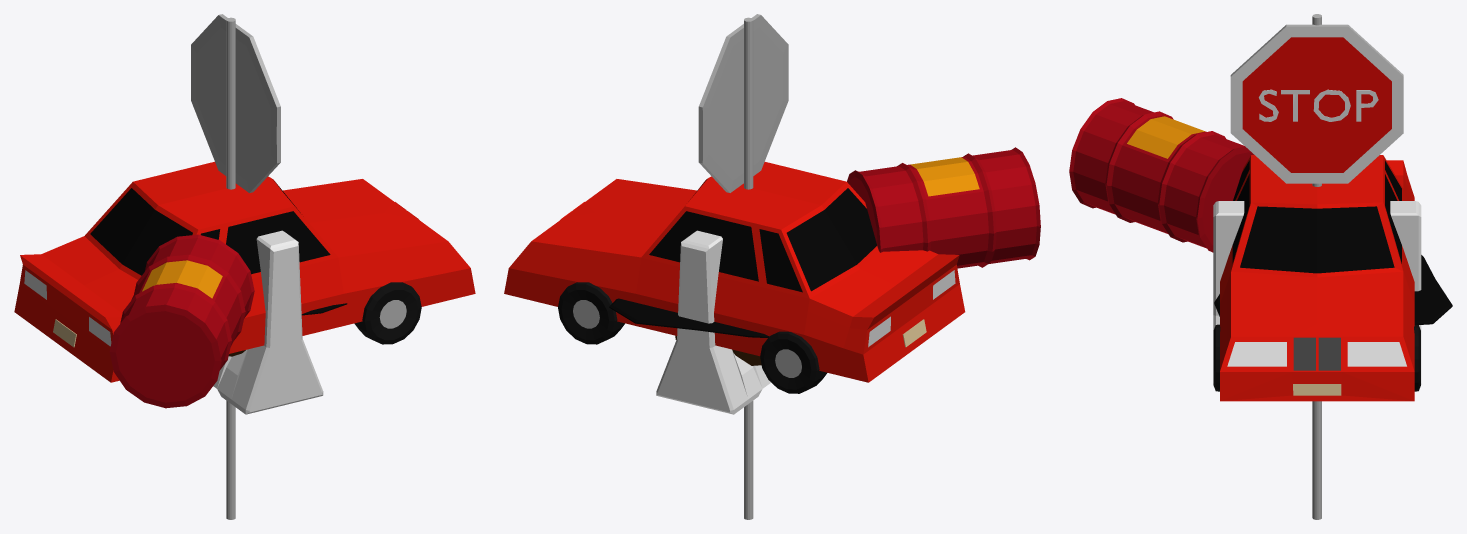
Rendered from STOP sign.fbx.
The picture shows the model from 3 angles, left to right: view 1: azimuth 30°, elevation 25°; view 2: azimuth 150°, elevation 25°; view 3: azimuth 270°, elevation 25°; orthographic projection.
Visible parts, largest first — view 1: Car, Oil Spill, Stop Sign, Barrier; view 2: Car, Oil Spill, Stop Sign, Barrier; view 3: Car, Stop Sign, Oil Spill, Barrier.
Boxes of the visible parts, x1,y1,x2,y2 form: Car: (14,161,475,382); Oil Spill: (109,234,347,408); Stop Sign: (191,14,280,519); Barrier: (213,230,323,414); Car: (504,162,965,393); Oil Spill: (609,147,1040,337); Stop Sign: (698,14,788,519); Barrier: (656,230,770,414); Car: (1213,155,1420,401); Stop Sign: (1230,14,1403,519); Oil Spill: (1069,98,1452,324); Barrier: (1213,201,1421,384).
Bounding box in the file's own units: 544 × 643 × 445.
